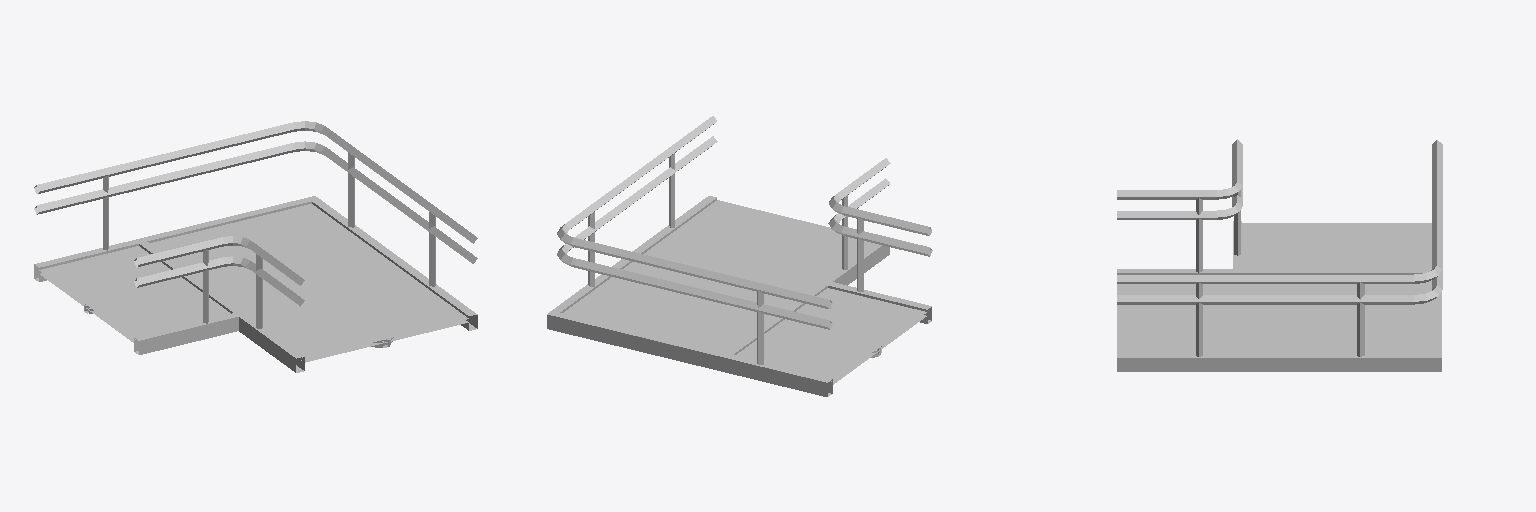
File: Bridge_With_Railing_Corner.obj
The picture shows the model from 3 angles: view 1: azimuth 30°, elevation 25°; view 2: azimuth 150°, elevation 25°; view 3: azimuth 270°, elevation 25°; orthographic projection.
Parts seen in each view (by area): view 1: Bridges_turn; view 2: Bridges_turn; view 3: Bridges_turn.
Part boxes in pixels (x1,y1,x2,y2): Bridges_turn: (34, 121, 477, 372); Bridges_turn: (547, 116, 932, 396); Bridges_turn: (1117, 139, 1442, 371).
Bounding box in the file's own units: 3.24 × 1.05 × 3.24.